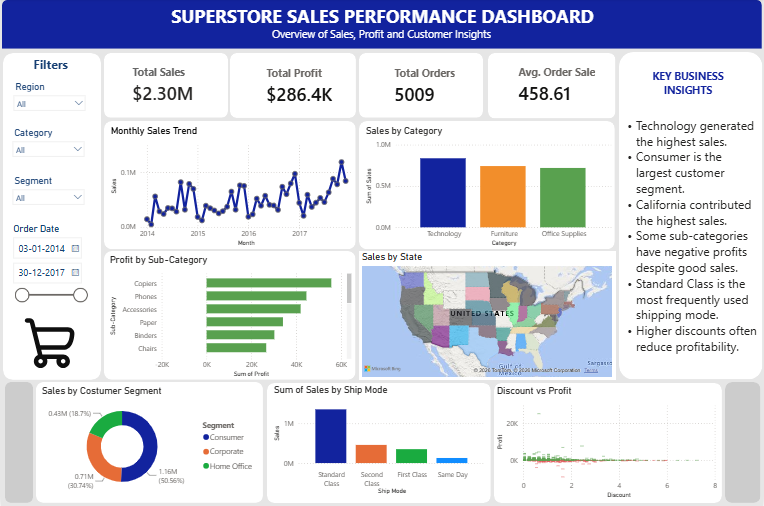

Layout of this report page (visuals, bound fields, positions):
{"tool":"powerbi","page":{"name":"Page 1","canvas":[1350,900],"ordinal":0},"visuals":[{"type":"shape","box":[1.8,3.6,1346.4,86.5],"z":0},{"type":"textbox","box":[3.6,3.6,1344.6,86.5],"z":1000},{"type":"textbox","box":[1.8,46.1,1344.7,44.3],"z":2000},{"type":"shape","box":[3.5,97.4,173.6,579.3],"z":3000},{"type":"textbox","box":[14.2,97.8,147.4,43.9],"z":4000},{"type":"slicer","fields":{"Values":["Sample - Superstore.Region"]},"box":[12.8,141.7,147.4,65.2],"z":5000},{"type":"slicer","fields":{"Values":["Sample - Superstore.Category"]},"box":[9.9,222.5,147.4,65.2],"z":6000},{"type":"slicer","fields":{"Values":["Sample - Superstore.Segment"]},"box":[9.9,307.6,147.4,65.2],"z":7000},{"type":"slicer","fields":{"Values":["Sample - Superstore.Order Date"]},"box":[8.5,392.6,153.1,150.2],"z":8000},{"type":"shape","box":[1094.1,95.5,254.1,580.4],"z":9000},{"type":"shape","box":[182.8,97.8,219.7,114.8],"z":10000},{"type":"shape","box":[405.7,97.4,223.2,115.2],"z":11000},{"type":"shape","box":[635,97.8,219.7,114.8],"z":12000},{"type":"shape","box":[862.4,97.3,226,115.8],"z":13000},{"type":"cardVisual","fields":{"Data":["Sample - Superstore.Total Sales"]},"box":[203.7,102.8,198.4,102.8],"z":14000},{"type":"cardVisual","fields":{"Data":["Sample - Superstore.Total Profit"]},"box":[441.1,104.5,184.3,102.8],"z":15000},{"type":"cardVisual","fields":{"Data":["Sample - Superstore.Total Orders"]},"box":[667.9,104.5,175.4,102.8],"z":16000},{"type":"cardVisual","fields":{"Data":["Sample - Superstore.Average Order Value"]},"box":[887.6,102.8,200.2,102.8],"z":17000},{"type":"shape","box":[183.1,217.4,446.2,227.4],"z":18000},{"type":"lineChart","title":"Monthly Sales Trend","fields":{"Y":["Sum(Sample - Superstore.Sales)"],"Category":["Sample - Superstore.Order Date.Variation.Date Hierarchy.Year","Sample - Superstore.Order Date.Variation.Date Hierarchy.Month"]},"box":[190.2,224.5,439.1,220.2],"z":19000},{"type":"shape","box":[635,217.4,453.4,227.4],"z":20000},{"type":"clusteredColumnChart","title":"Sales by Category","fields":{"Category":["Sample - Superstore.Category"],"Y":["Sum(Sample - Superstore.Sales)"]},"box":[642.1,224.5,446.2,220.2],"z":21000},{"type":"shape","box":[182.7,448.8,445.7,228.3],"z":22000},{"type":"shape","box":[634.6,448.8,453.5,228.3],"z":23000},{"type":"clusteredBarChart","title":"Profit by Sub-Category","fields":{"Category":["Sample - Superstore.Sub-Category"],"Y":["Sum(Sample - Superstore.Profit)"]},"box":[187.4,453.5,437.8,223.6],"z":24000},{"type":"filledMap","title":"Sales by State","fields":{"Category":["Sample - Superstore.State"],"Series":["Sample - Superstore.Sales"]},"box":[634.6,448.8,453.5,228.3],"z":25000},{"type":"shape","box":[62,680.3,402.2,214.4],"z":26000},{"type":"donutChart","title":"Sales by Costumer Segment","fields":{"Category":["Sample - Superstore.Segment"],"Y":["Sum(Sample - Superstore.Sales)"]},"box":[67.3,685.6,391.5,196.7],"z":27000},{"type":"shape","box":[470.4,681.3,396.5,212.7],"z":28000},{"type":"clusteredColumnChart","fields":{"Category":["Sample - Superstore.Ship Mode"],"Y":["Sum(Sample - Superstore.Sales)"]},"box":[477.6,683.1,383.9,200.1],"z":29000},{"type":"shape","box":[874.2,681.3,403.7,212.7],"z":30000},{"type":"scatterChart","title":"Discount vs Profit","fields":{"X":["Sum(Sample - Superstore.Discount)"],"Y":["Sum(Sample - Superstore.Profit)"],"Category":["Sample - Superstore.Product Name"]},"box":[874.2,684.9,400.1,205.5],"z":31000},{"type":"shape","box":[1283.3,679.5,63.1,214.5],"z":32000},{"type":"shape","box":[7.1,680.3,49.6,214.4],"z":33000},{"type":"image","box":[14.2,563.4,143.5,95.7],"z":34000},{"type":"textbox","box":[1087.8,120.5,258.7,69.1],"z":35000},{"type":"textbox","box":[1087.8,205.5,260.4,471.3],"z":36000}]}

Visuals, with their boxes in screenshot pixels (x1, y1, x2, y2), scaled from the page's 1350x900 canvas onto the 764x506 screenshot:
shape: bbox(1, 2, 763, 51)
textbox: bbox(2, 2, 763, 51)
textbox: bbox(1, 26, 762, 51)
shape: bbox(2, 55, 100, 380)
textbox: bbox(8, 55, 91, 80)
slicer - Sample - Superstore.Region: bbox(7, 80, 91, 116)
slicer - Sample - Superstore.Category: bbox(6, 125, 89, 162)
slicer - Sample - Superstore.Segment: bbox(6, 173, 89, 210)
slicer - Sample - Superstore.Order Date: bbox(5, 221, 91, 305)
shape: bbox(619, 54, 763, 380)
shape: bbox(103, 55, 228, 120)
shape: bbox(230, 55, 356, 120)
shape: bbox(359, 55, 484, 120)
shape: bbox(488, 55, 616, 120)
cardVisual - Sample - Superstore.Total Sales: bbox(115, 58, 228, 116)
cardVisual - Sample - Superstore.Total Profit: bbox(250, 59, 354, 117)
cardVisual - Sample - Superstore.Total Orders: bbox(378, 59, 477, 117)
cardVisual - Sample - Superstore.Average Order Value: bbox(502, 58, 616, 116)
shape: bbox(104, 122, 356, 250)
"Monthly Sales Trend" lineChart: bbox(108, 126, 356, 250)
shape: bbox(359, 122, 616, 250)
"Sales by Category" clusteredColumnChart: bbox(363, 126, 616, 250)
shape: bbox(103, 252, 356, 381)
shape: bbox(359, 252, 616, 381)
"Profit by Sub-Category" clusteredBarChart: bbox(106, 255, 354, 381)
"Sales by State" filledMap: bbox(359, 252, 616, 381)
shape: bbox(35, 382, 263, 503)
"Sales by Costumer Segment" donutChart: bbox(38, 385, 260, 496)
shape: bbox(266, 383, 491, 503)
clusteredColumnChart - Sample - Superstore.Ship Mode x Sum(Sample - Superstore.Sales): bbox(270, 384, 488, 497)
shape: bbox(495, 383, 723, 503)
"Discount vs Profit" scatterChart: bbox(495, 385, 721, 501)
shape: bbox(726, 382, 762, 503)
shape: bbox(4, 382, 32, 503)
image: bbox(8, 317, 89, 371)
textbox: bbox(616, 68, 762, 107)
textbox: bbox(616, 116, 763, 381)
